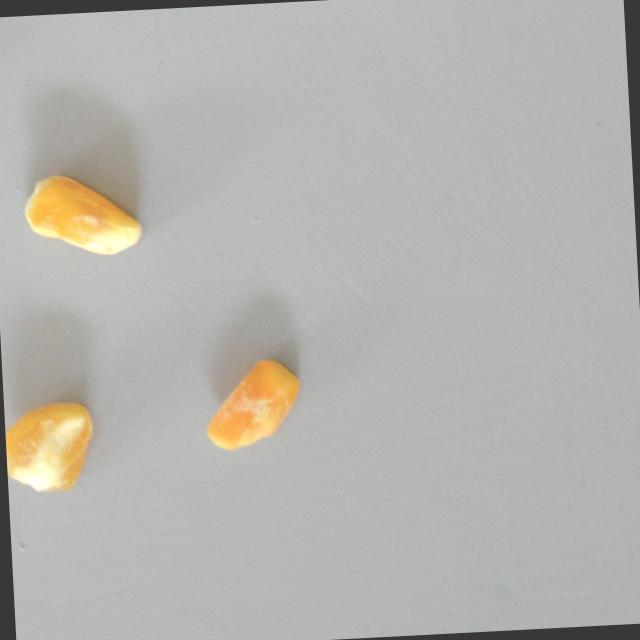pelicula: (21, 167, 143, 260), (200, 357, 305, 455), (4, 399, 97, 496)
